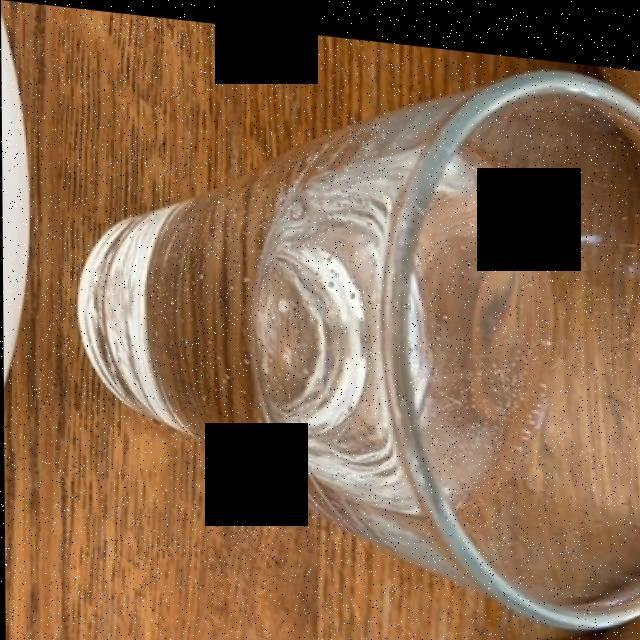water: (68, 139, 554, 521)
